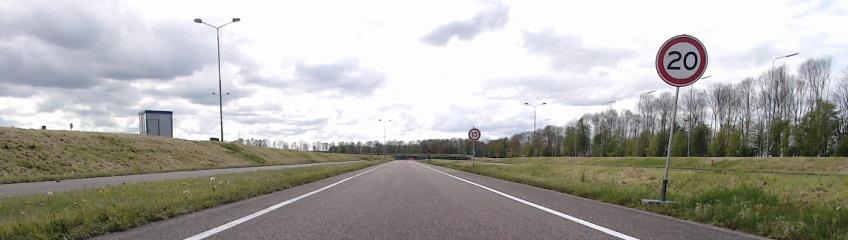Speed-limit-10km-h-: (468, 128, 480, 141)
Speed-limit-20km-h-: (656, 35, 708, 87)
